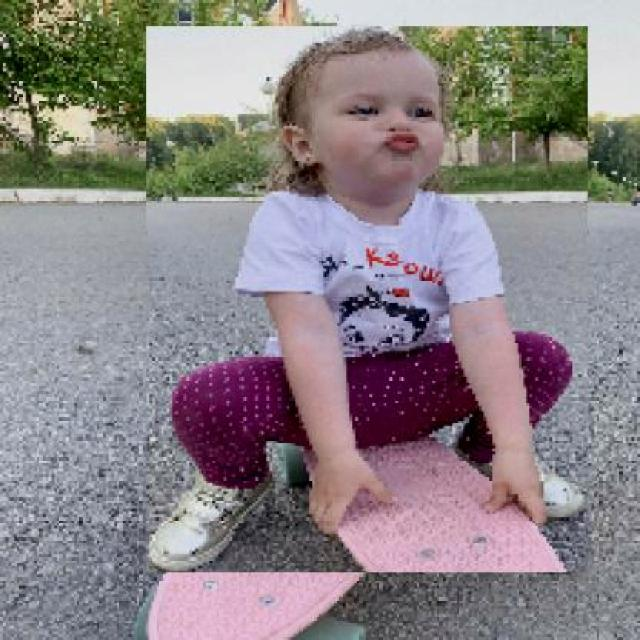child: (144, 26, 587, 574)
